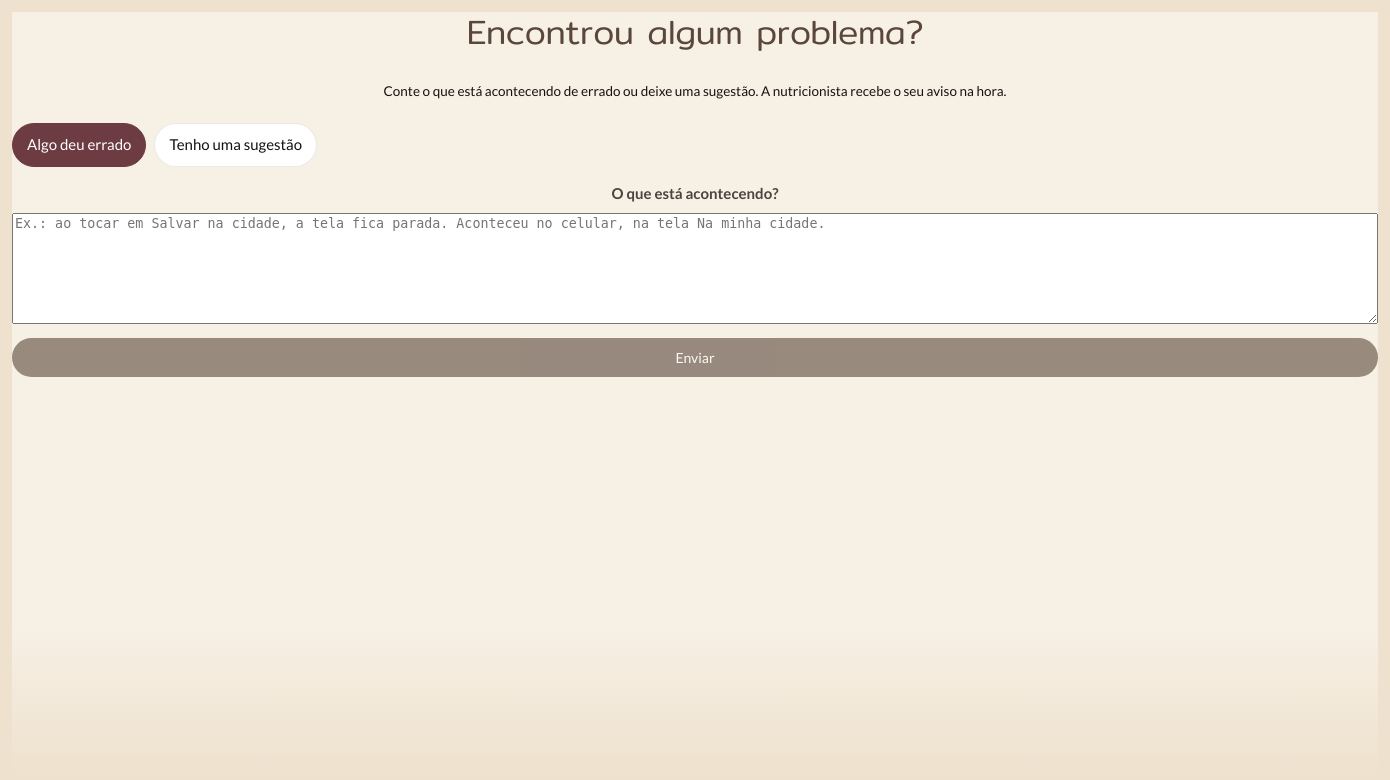
Scenario: FeedbackPage › envia o problema para a profissional e mostra a confirmação
The width and height of the screenshot is (1390, 780).
Replace the text in the text box with "A tela de planos não abre no celular" at (695, 268), box [12, 212, 1378, 324]
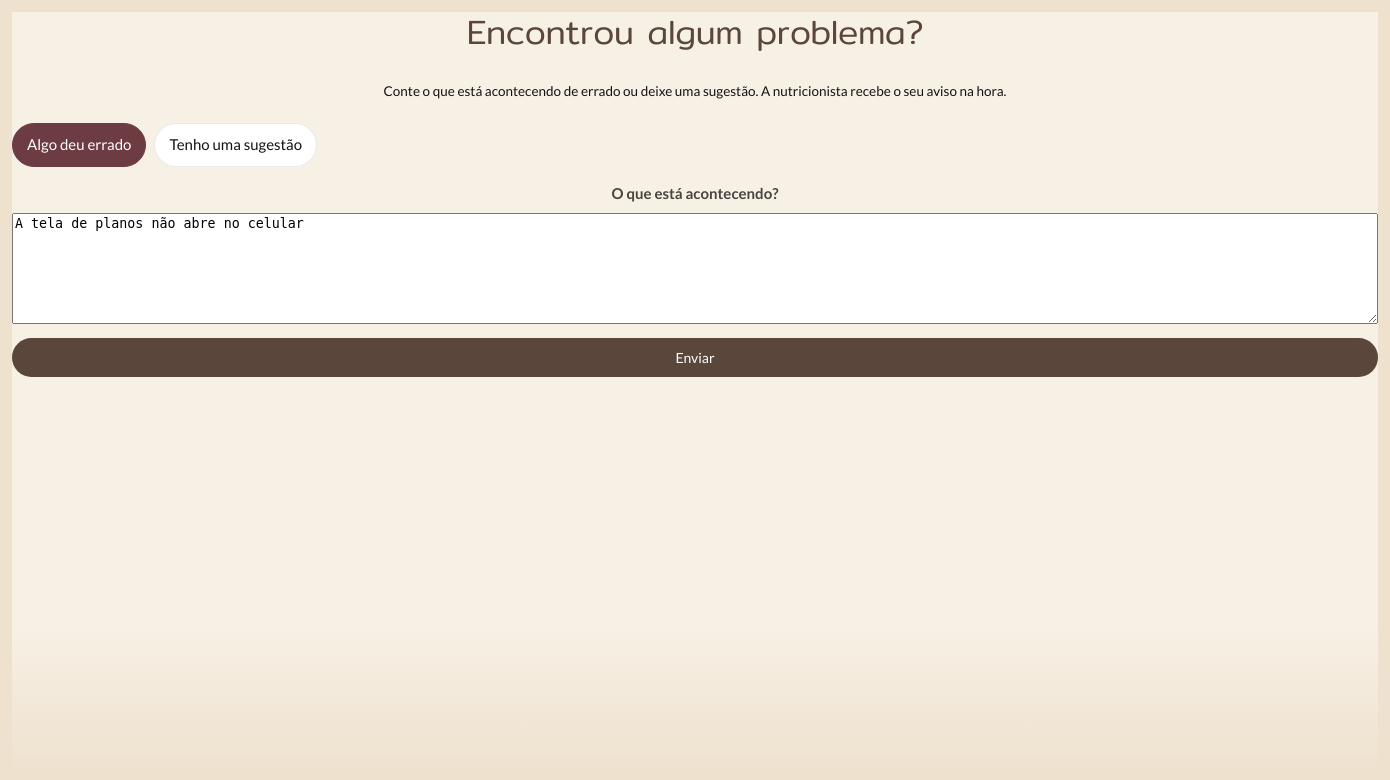
Click the button "Enviar".
click(695, 357)  # box [12, 338, 1378, 377]
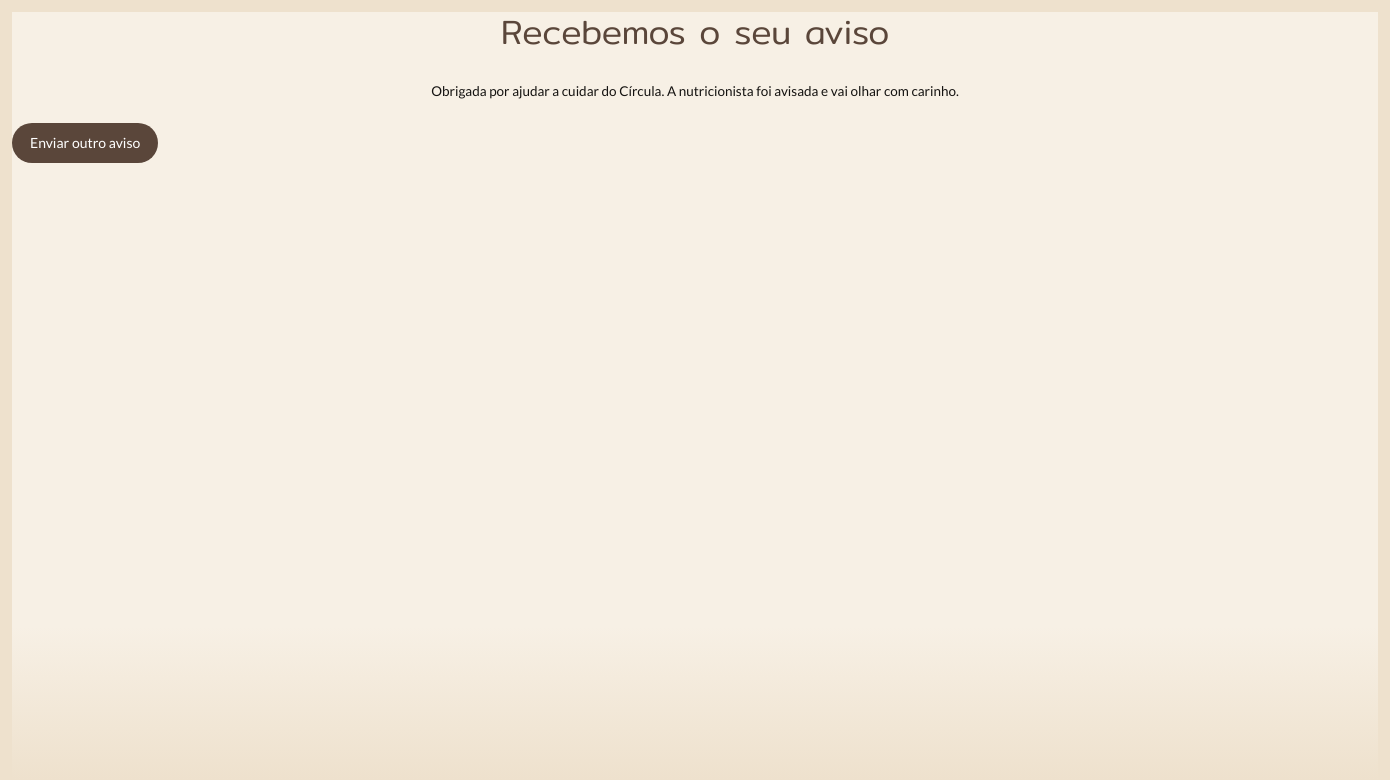
expect the heading "Recebemos o seu aviso" is shown: met, box [501, 12, 889, 58]
